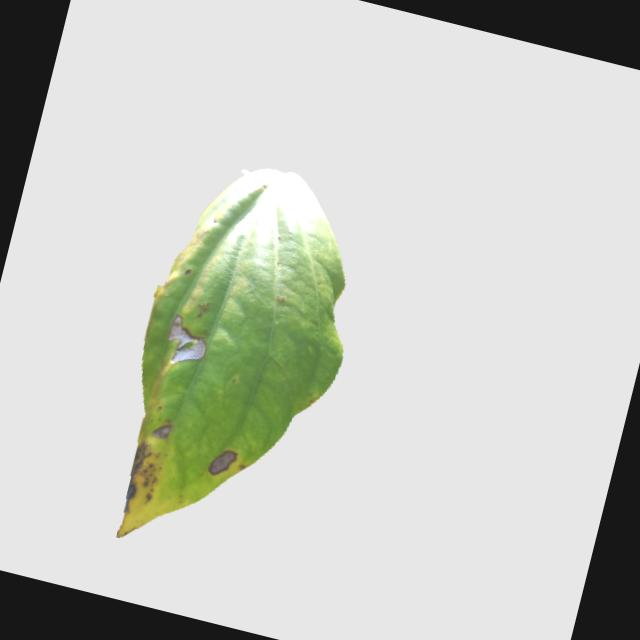yellow-mottle-virus: (86, 144, 390, 582)
